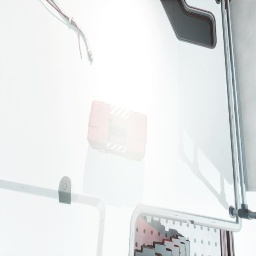FirstAidBox ,: (87, 100, 147, 162)
